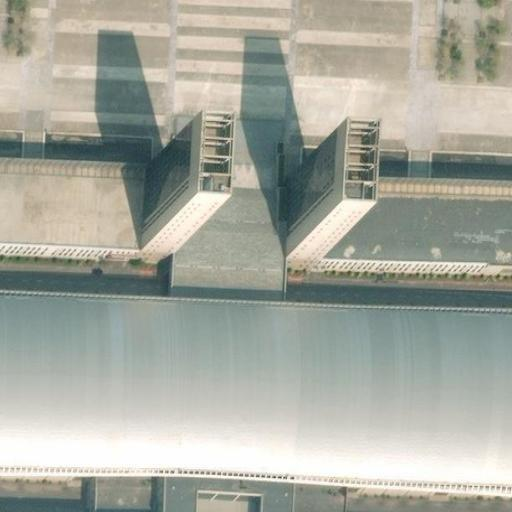building: (0, 297, 512, 512), (316, 163, 512, 262), (142, 155, 186, 248), (284, 161, 320, 254)
